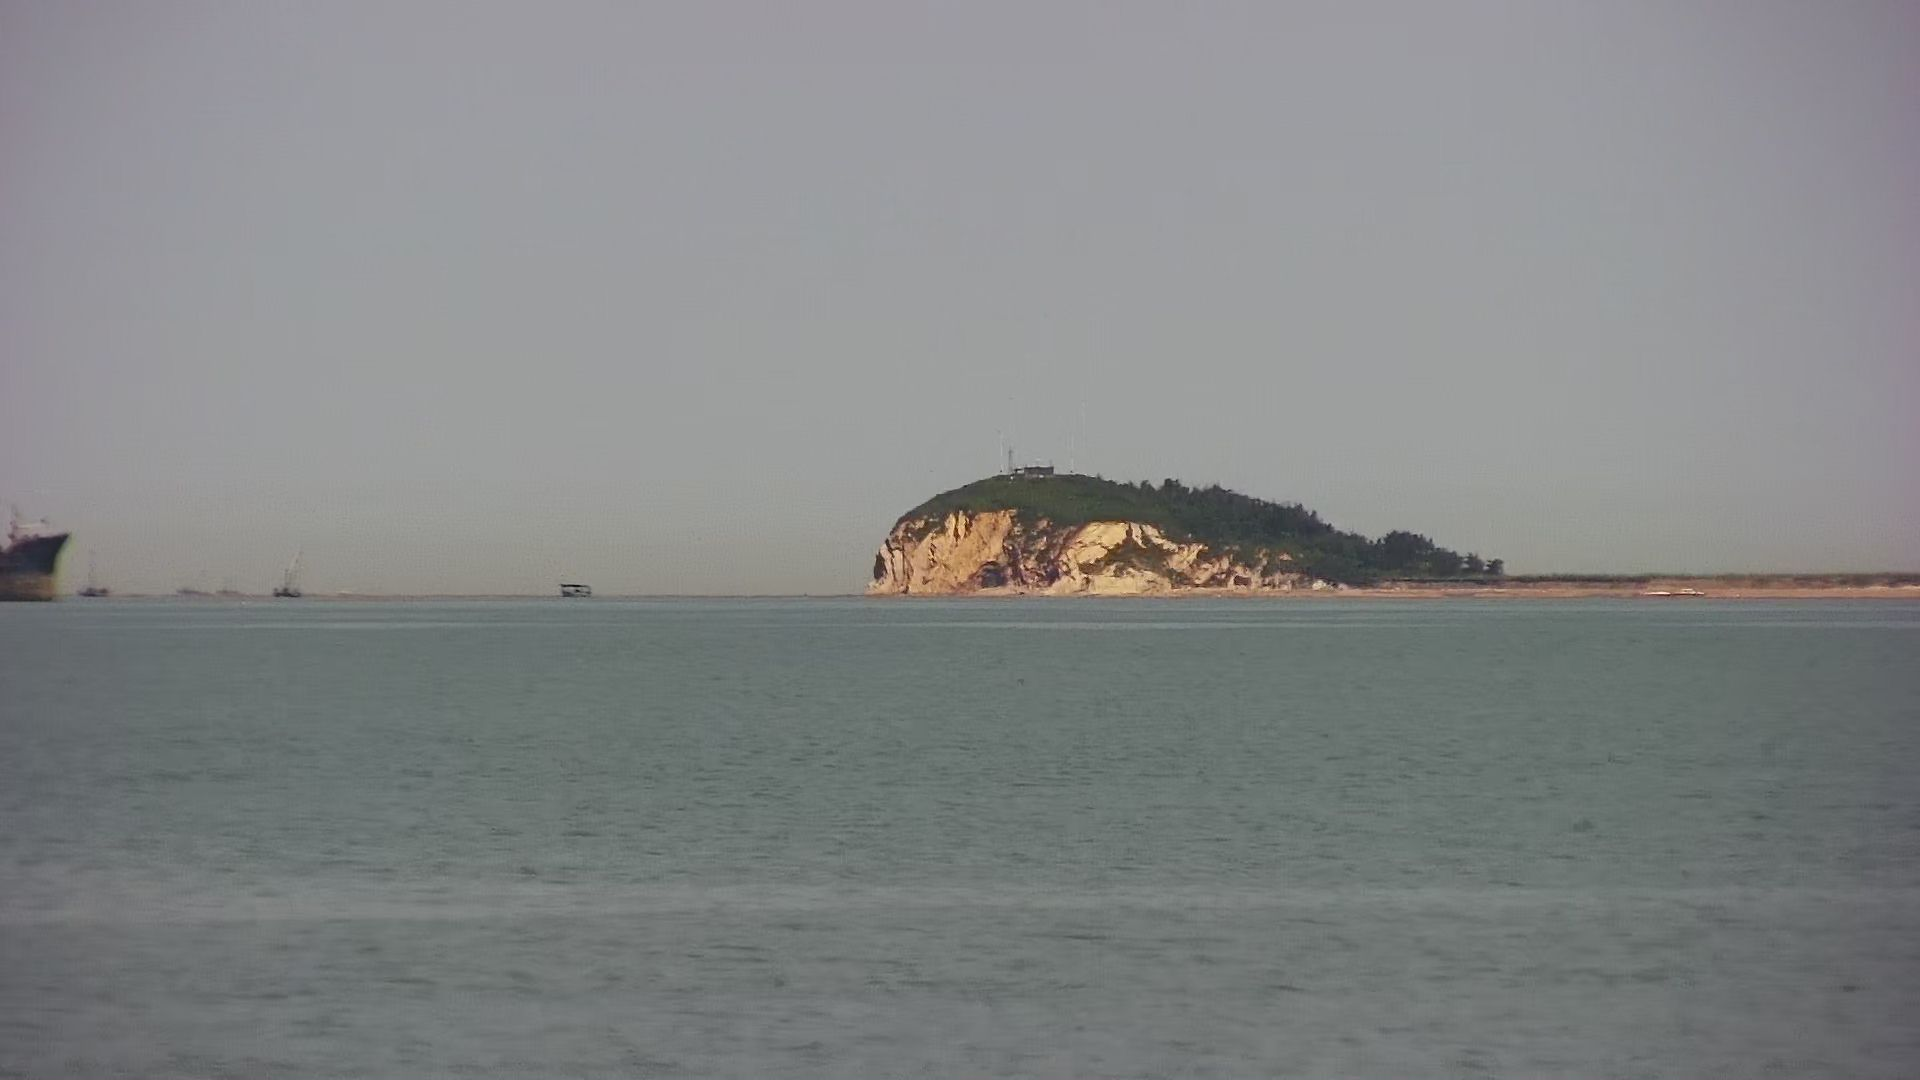rock: (868, 434, 1524, 597)
